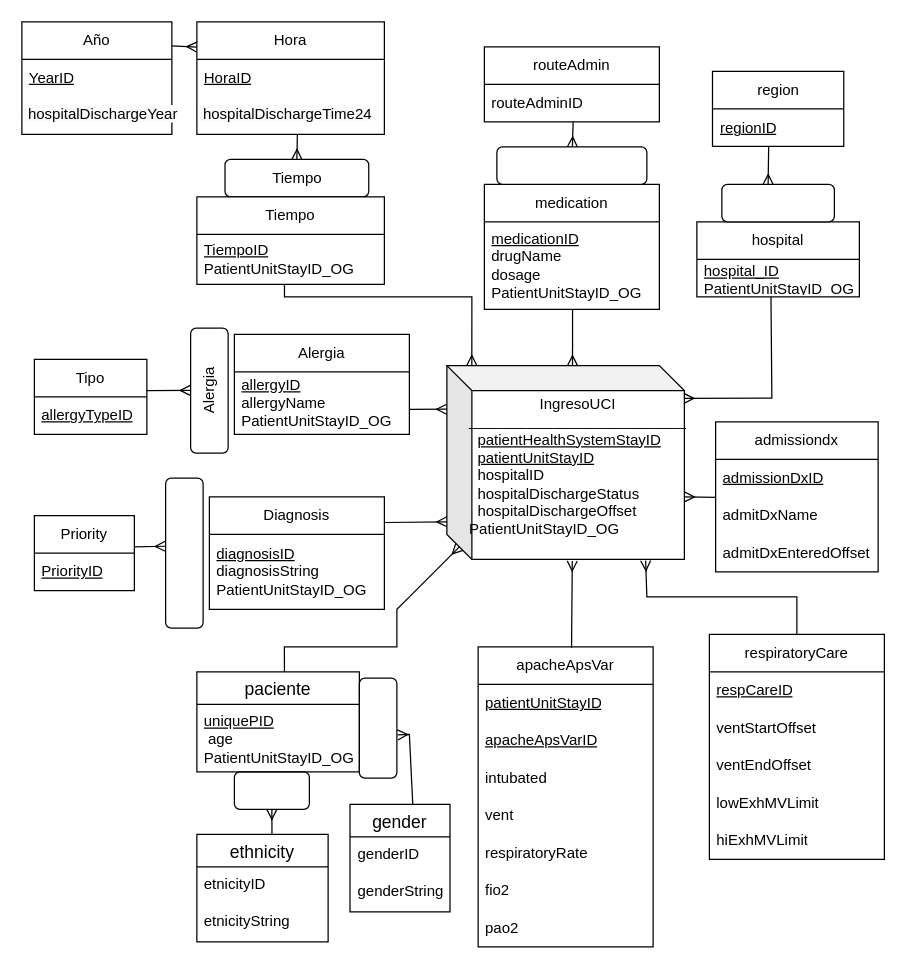
Image size: 906x969. Some labels were removed from this diagram. Here are the shapes that lost their labels. From the top down, the centre of each, then its label:
point (571, 165): ruta de admin
point (777, 202): Localización
point (183, 552): Diagnóstico
point (377, 727): genero
point (271, 790): etnia
